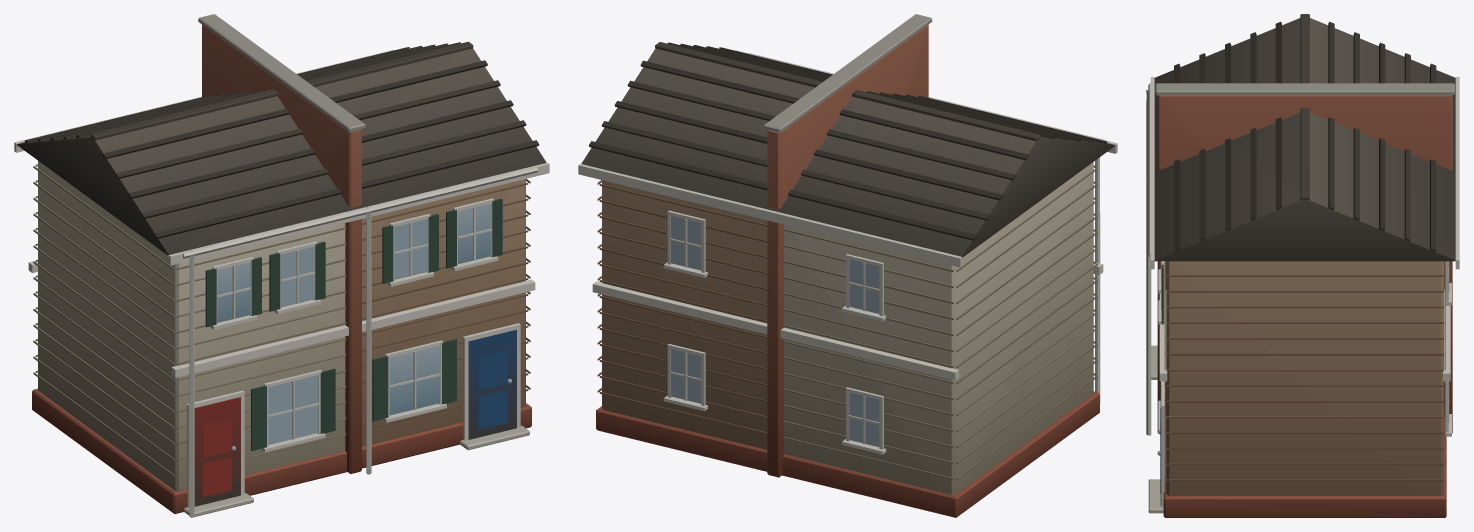
File: townhouse_duplex.glb
The picture shows the model from 3 angles, left to right: view 1: azimuth 30°, elevation 25°; view 2: azimuth 150°, elevation 25°; view 3: azimuth 270°, elevation 25°; orthographic projection.
Parts seen in each view (by area): view 1: townhouse_duplex; view 2: townhouse_duplex; view 3: townhouse_duplex.
Part boxes in pixels (x1,y1,x2,y2): townhouse_duplex: (14, 14, 549, 517); townhouse_duplex: (578, 14, 1117, 517); townhouse_duplex: (1146, 14, 1459, 517).
Size of the model in its own units: 7.56 by 6.6 by 5.42.
